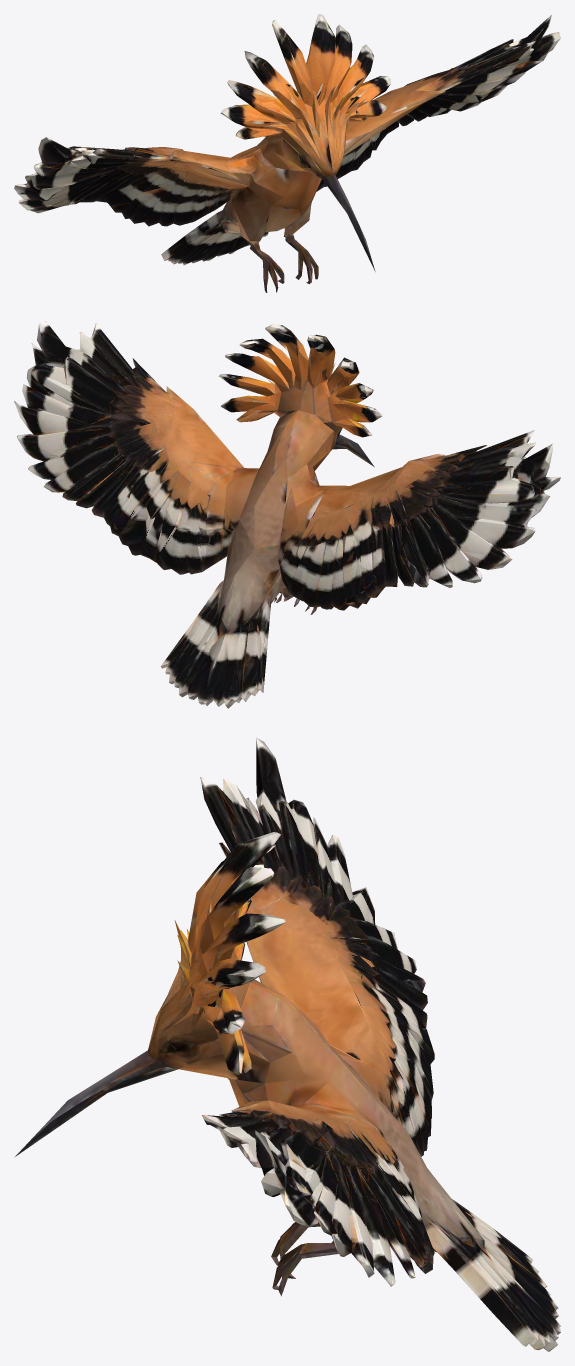
The model's file is hoopoe.glb.
3 renders of one model, top to bottom at view 1: azimuth 30°, elevation 25°; view 2: azimuth 150°, elevation 25°; view 3: azimuth 270°, elevation 25°, orthographic. The views are drawn at different scales.
Size of the model in its own units: 1.9 by 1.06 by 1.07.
1 material, 1 textured.
